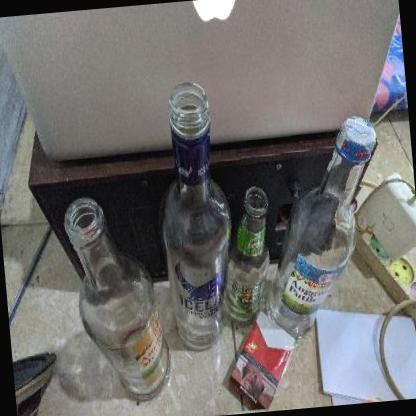objects: (224, 309, 301, 413)
